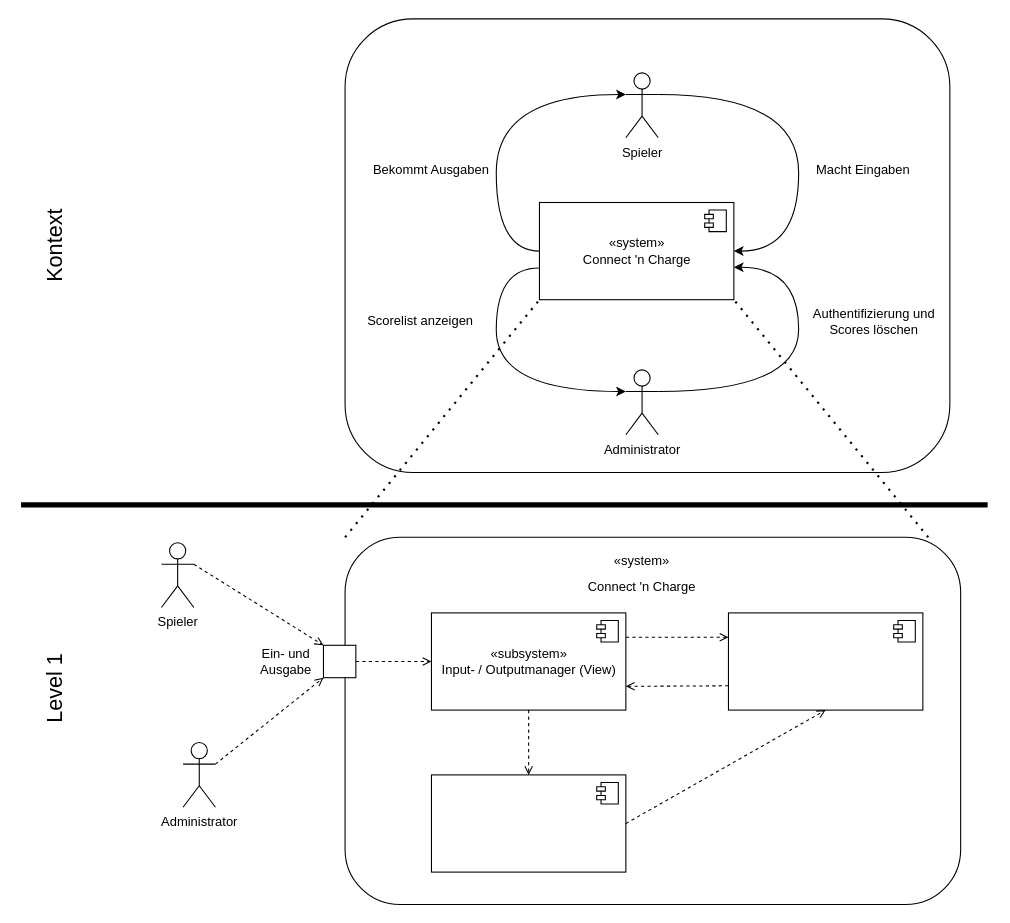
Some shapes in this 1010 by 923 pixel diagram are drawn without their labels. Here are the shapes that lost their labels. From the top down, the centre of each, then its label:
pixel 825 661: «subsystem» Gamerules (Model)
pixel 528 823: «subsystem» Manager (Controller)
